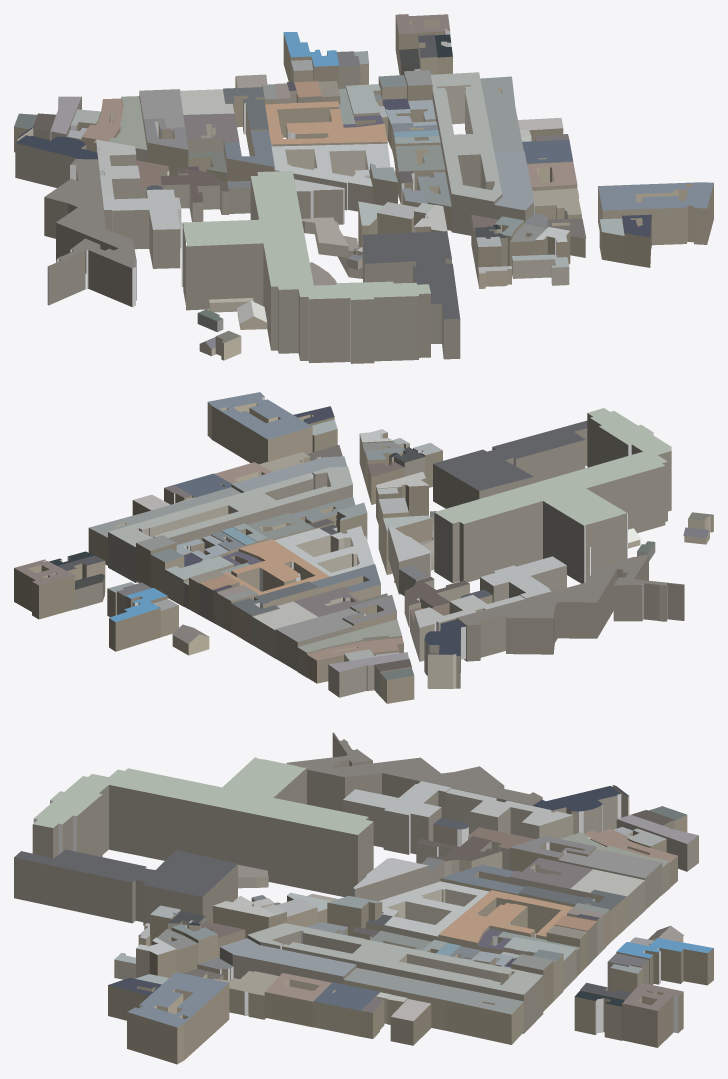
The picture shows the model from 3 angles, top to bottom: view 1: azimuth 30°, elevation 25°; view 2: azimuth 150°, elevation 25°; view 3: azimuth 270°, elevation 25°; orthographic projection. The views are drawn at different scales.
Parts seen in each view (by area): view 1: tuile; view 2: tuile; view 3: tuile.
Boxes of the visible parts, left/top/right/bottom form: tuile: left=14, top=14, right=713, bottom=363; tuile: left=14, top=392, right=713, bottom=703; tuile: left=14, top=732, right=713, bottom=1064.
Size of the model in its own units: 319 by 45.56 by 324.
